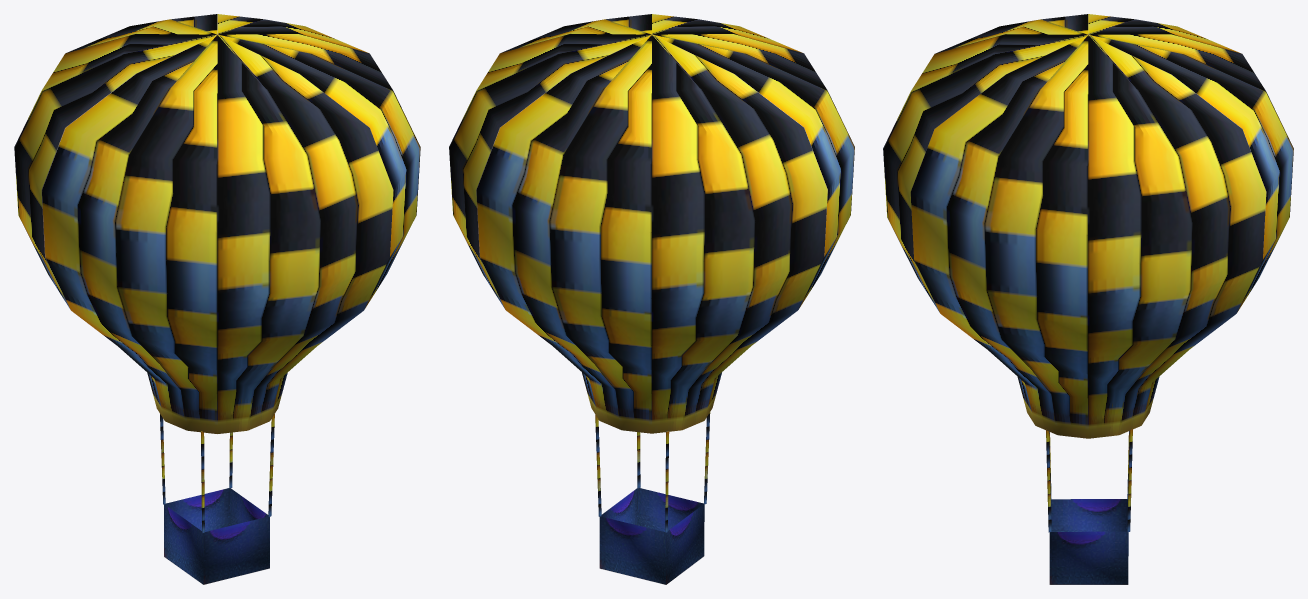
Rendered from furni_0201002.FBX.
The picture shows the model from 3 angles, left to right: view 1: azimuth 30°, elevation 25°; view 2: azimuth 150°, elevation 25°; view 3: azimuth 270°, elevation 25°; orthographic projection.
Visible parts, largest first — view 1: furni_0201002; view 2: furni_0201002; view 3: furni_0201002.
Part boxes in pixels (<box>): furni_0201002: <box>14,14,420,584</box>; furni_0201002: <box>449,14,854,584</box>; furni_0201002: <box>883,14,1293,584</box>.
Bounding box in the file's own units: 680 × 975 × 680.
Materials: 1 (1 with a texture image).
